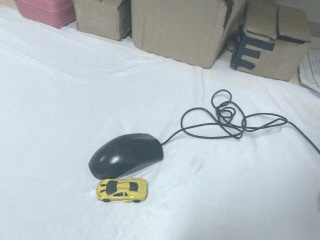box: (128, 1, 252, 70), (229, 1, 312, 82), (74, 1, 131, 43), (11, 1, 79, 30)
mouse: (88, 133, 164, 180)
toy_car: (94, 178, 147, 203)
